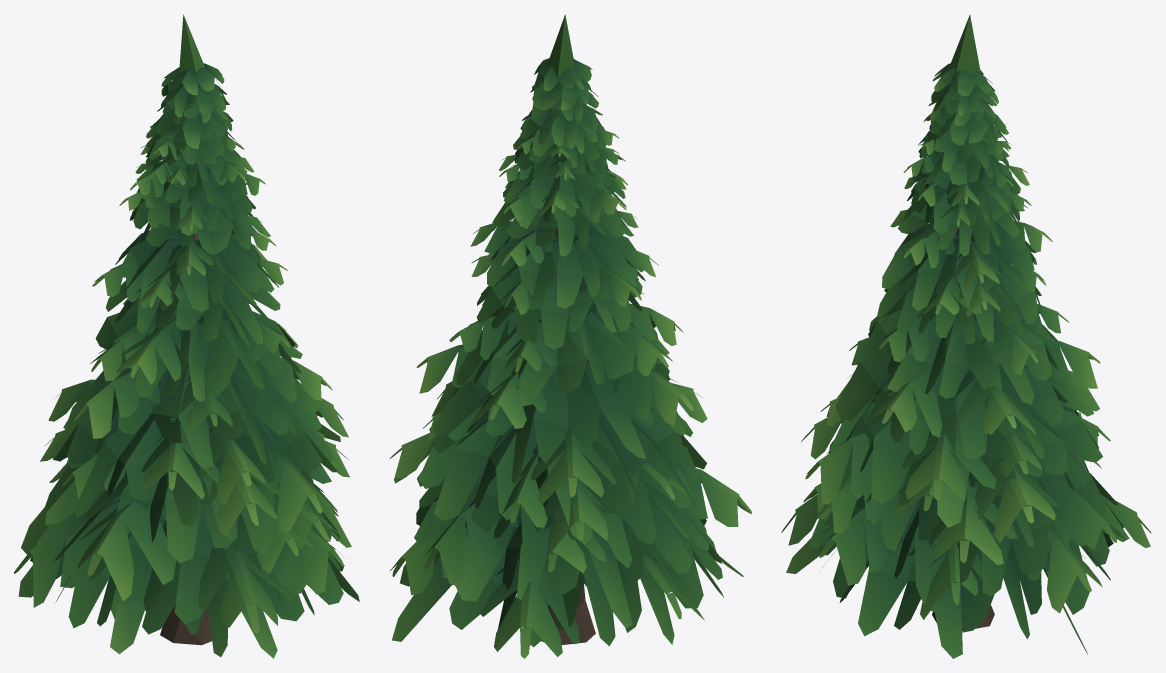
Rendered from spruce_L_normal_std_top_dense_s32.glb.
3 views of the same model, side by side, from view 1: azimuth 30°, elevation 25°; view 2: azimuth 150°, elevation 25°; view 3: azimuth 270°, elevation 25° (orthographic). The views are drawn at different scales.
Visible parts, largest first — view 1: Tree; view 2: Tree; view 3: Tree.
Part boxes in pixels (box(x1,y1,x2,y2)): Tree: box(14, 14, 359, 658); Tree: box(389, 14, 752, 658); Tree: box(781, 15, 1151, 658).
Size of what is drawn, in the model's own units: 4.15 by 7.97 by 4.45.
